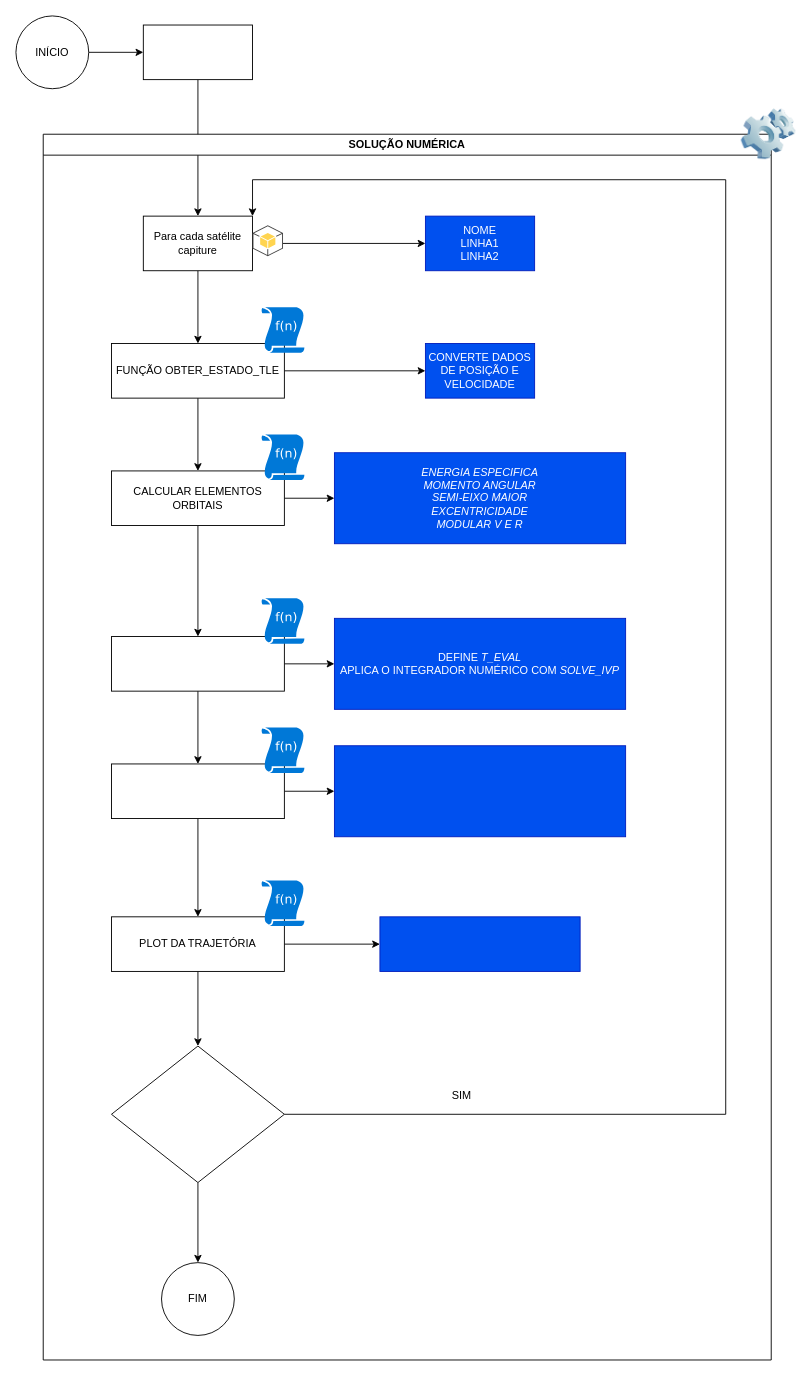
This 812x1376 diagram has some shape labels left out. The box of each missing label's shape, as (x1, y1, x2, y2) in pixels:
CALCULO DA ACELERAÇÃO ORBITAL: (334, 745, 626, 837)
DEFINE EQUAÇÕES ORBITAIS: (111, 763, 284, 819)
HÁ OUTRO TLE DISPONÍVEL?: (111, 1045, 284, 1183)
main.py: (142, 24, 253, 80)
SIMULA ORBITA: (111, 636, 284, 691)
TERRA WGS84: (379, 916, 580, 971)
